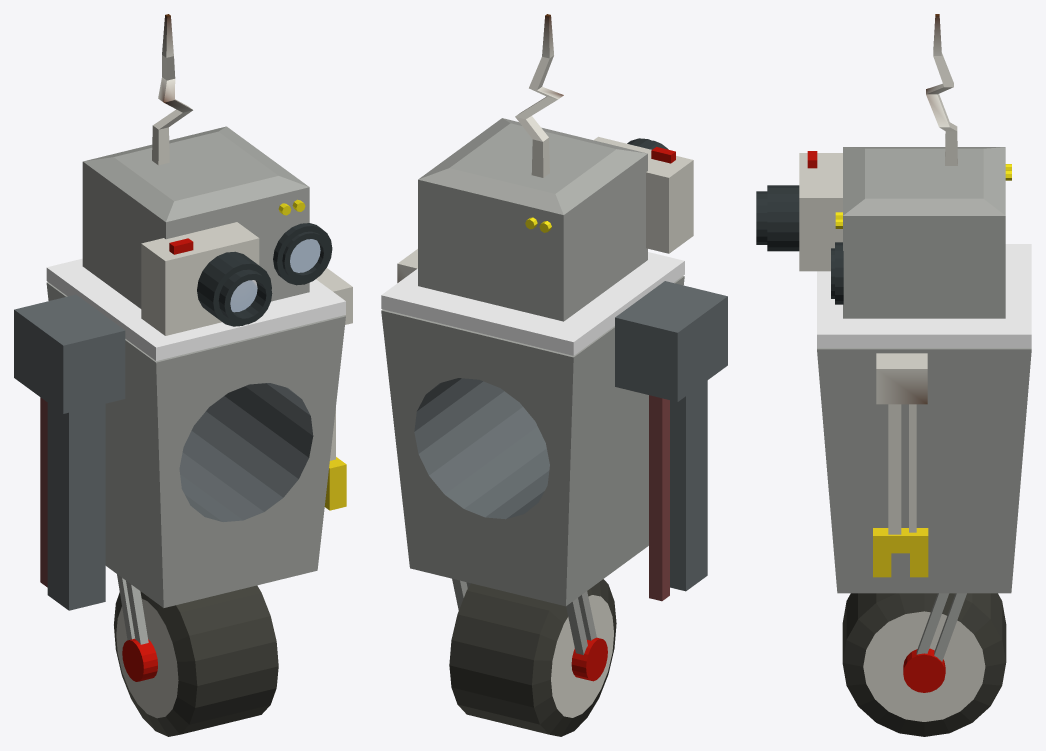
Rendered from robot.fbx.
The picture shows the model from 3 angles, left to right: view 1: azimuth 30°, elevation 25°; view 2: azimuth 150°, elevation 25°; view 3: azimuth 270°, elevation 25°; orthographic projection. The views are drawn at different scales.
Parts seen in each view (by area): view 1: body, hand2, head, wheel, eye2, lid, eye1, wheel support, antenna, hand1; view 2: body, head, hand2, wheel, lid, eye2, wheel support, antenna; view 3: body, head, wheel, lid, hand1, eye2, wheel support, antenna, eye1.
Boxes of the visible parts, <box> form: body: <box>46,282,345,607</box>; hand2: <box>14,294,125,610</box>; head: <box>82,126,309,308</box>; wheel: <box>114,585,278,736</box>; eye2: <box>141,222,272,335</box>; lid: <box>46,258,345,360</box>; eye1: <box>273,223,332,285</box>; wheel support: <box>117,574,157,681</box>; antenna: <box>152,14,192,165</box>; hand1: <box>316,268,352,510</box>; body: <box>381,276,684,606</box>; head: <box>418,118,647,321</box>; hand2: <box>615,281,727,601</box>; wheel: <box>449,579,616,736</box>; lid: <box>381,252,684,355</box>; eye2: <box>594,136,693,253</box>; wheel support: <box>452,578,607,681</box>; antenna: <box>515,14,563,177</box>; body: <box>817,348,1031,593</box>; head: <box>835,147,1011,318</box>; wheel: <box>842,593,1006,736</box>; lid: <box>817,244,1031,347</box>; hand1: <box>873,353,928,577</box>; eye2: <box>756,151,842,271</box>; wheel support: <box>903,593,966,692</box>; antenna: <box>926,14,957,165</box>; eye1: <box>831,242,843,304</box>.
Size of the model in its own units: 1.91 by 4.39 by 1.58.
